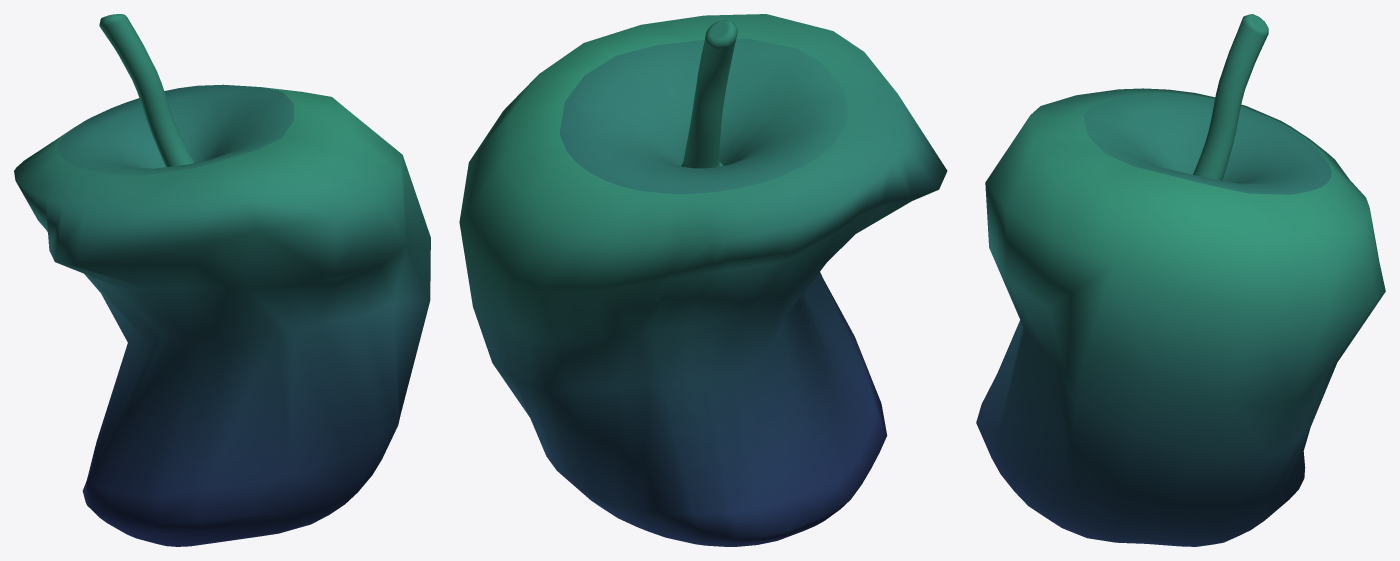
File: MS_Apple.fbx
3 views of the same model, side by side, from view 1: azimuth 30°, elevation 25°; view 2: azimuth 150°, elevation 25°; view 3: azimuth 270°, elevation 25° (orthographic). The views are drawn at different scales.
Parts seen in each view (by area): view 1: Object009; view 2: Object009; view 3: Object009.
Part boxes in pixels (x1,y1,x2,y2): Object009: (14, 14, 430, 546); Object009: (459, 14, 947, 546); Object009: (976, 14, 1385, 546).
Bounding box in the file's own units: 220 × 276 × 211.
